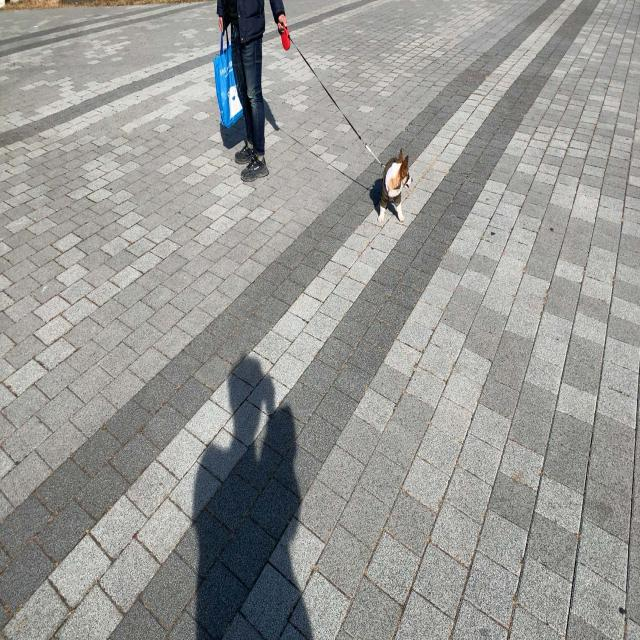Leashed_Dog: (243, 16, 413, 226)
